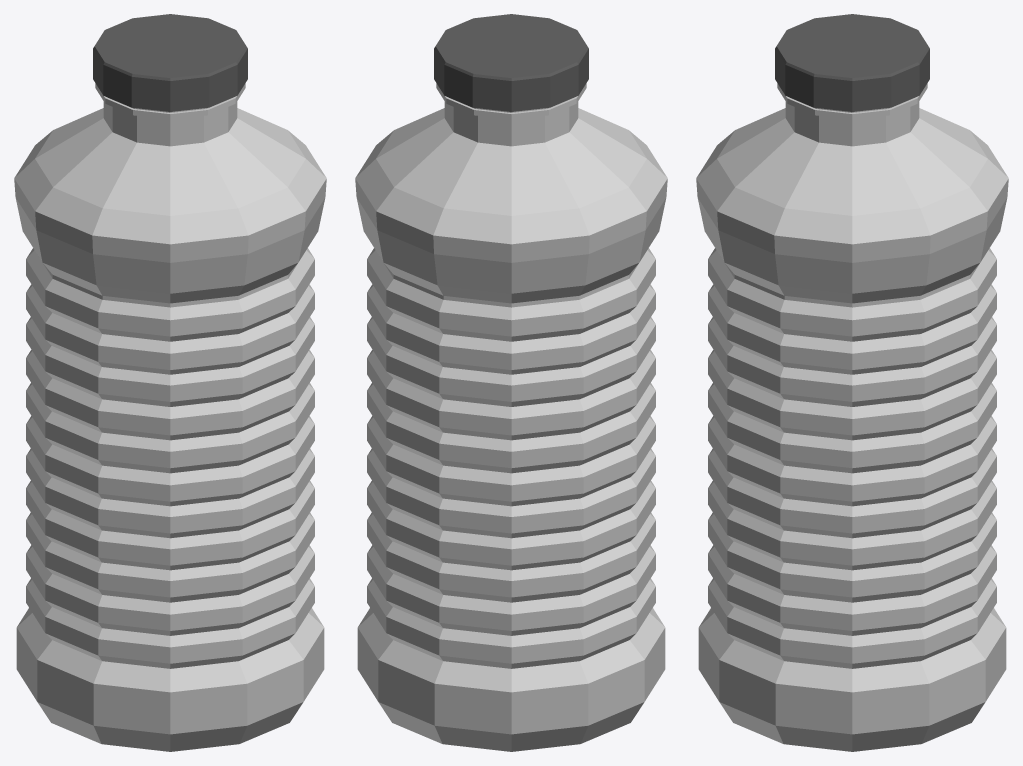
File: Water Bottle.FBX
3 renders of one model, left to right at view 1: azimuth 30°, elevation 25°; view 2: azimuth 150°, elevation 25°; view 3: azimuth 270°, elevation 25°, orthographic.
Visible parts, largest first — view 1: WaterBottle; view 2: WaterBottle; view 3: WaterBottle.
Boxes of the visible parts, bbox=[...] form: WaterBottle: bbox=[14, 14, 326, 751]; WaterBottle: bbox=[355, 14, 667, 751]; WaterBottle: bbox=[696, 14, 1008, 751].
Size of the model in its own units: 40.37 by 92.28 by 40.37.
